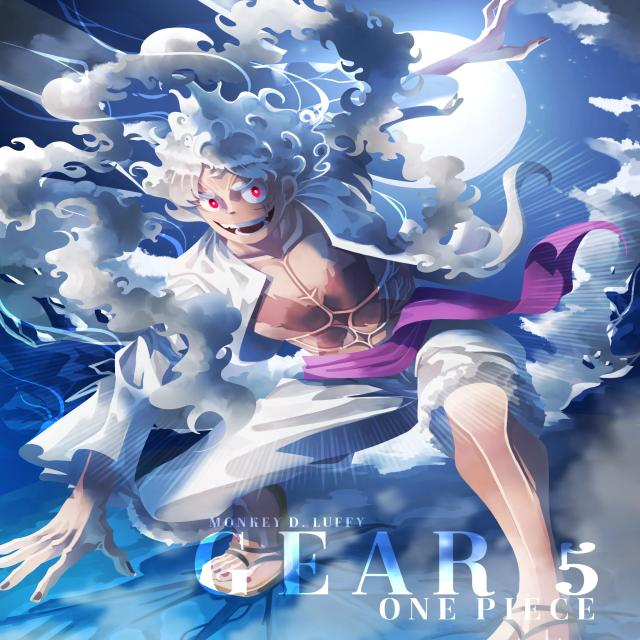luffy: (71, 52, 583, 608)
